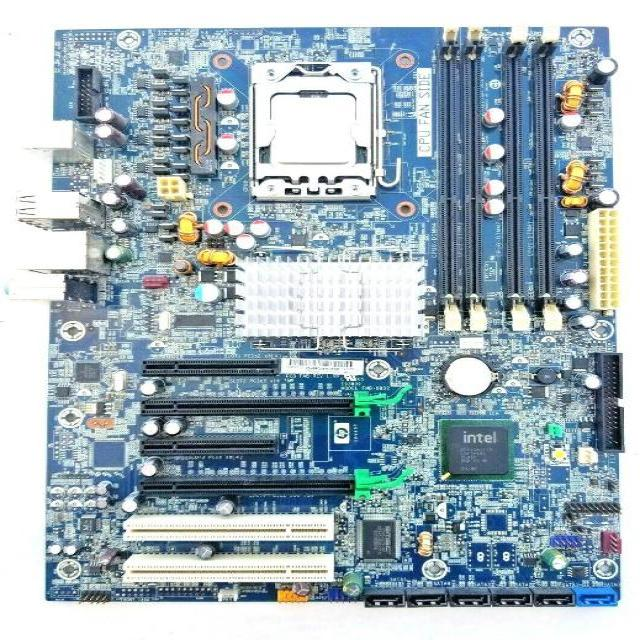CPU: (256, 90, 368, 167)
